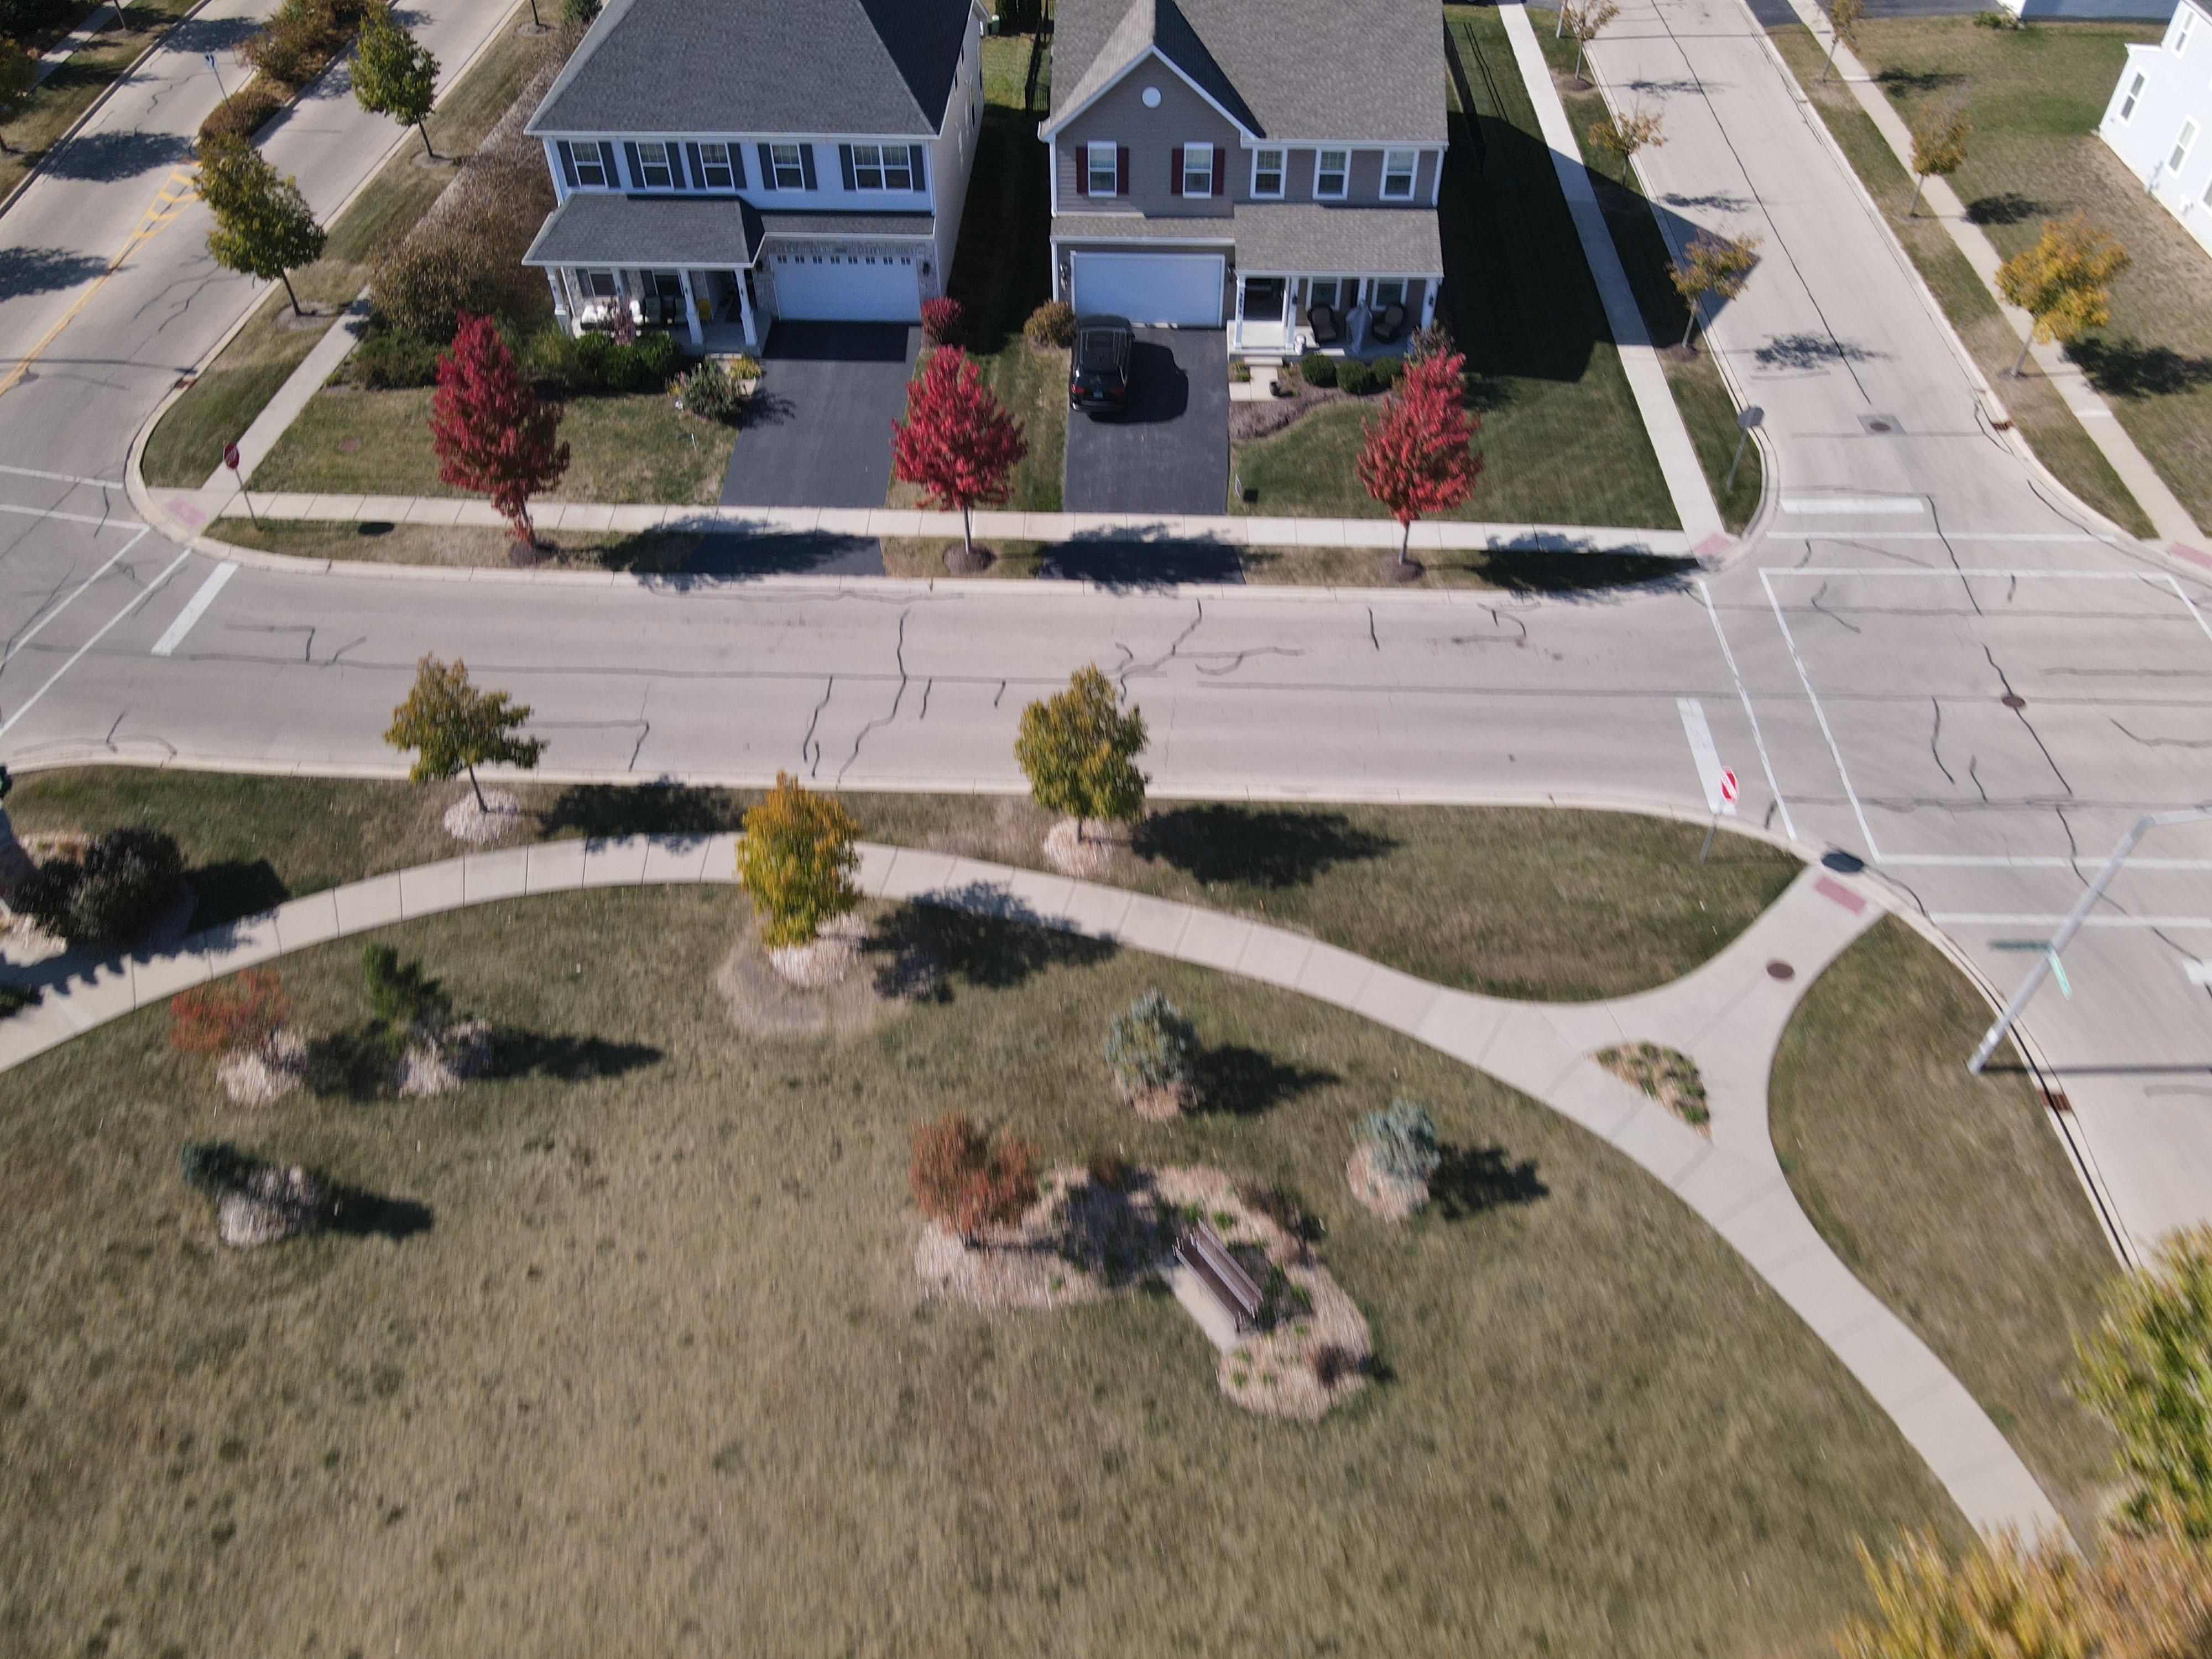Car: (1061, 308, 1139, 418)
